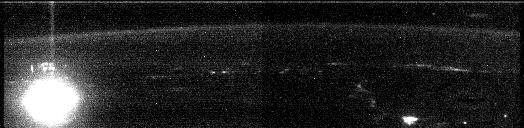positive: (28, 59, 59, 77)
